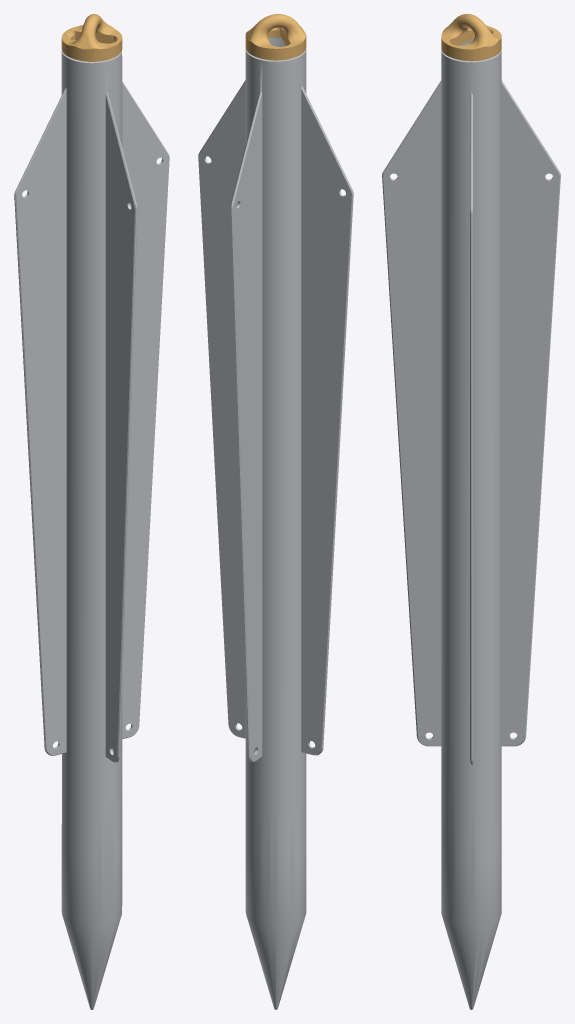
The model's file is estaca.glb.
The picture shows the model from 3 angles, left to right: view 1: azimuth 30°, elevation 25°; view 2: azimuth 150°, elevation 25°; view 3: azimuth 270°, elevation 25°; orthographic projection.
Parts seen in each view (by area): view 1: estaca, olhal; view 2: estaca, olhal; view 3: estaca, olhal.
Boxes of the visible parts, bbox=[...] form: estaca: bbox=[14, 50, 169, 1009]; olhal: bbox=[61, 14, 122, 61]; estaca: bbox=[198, 37, 353, 1009]; olhal: bbox=[245, 14, 306, 60]; estaca: bbox=[382, 39, 560, 1009]; olhal: bbox=[441, 14, 501, 61].
Size of the model in its own units: 2.26 by 13.83 by 2.26.
